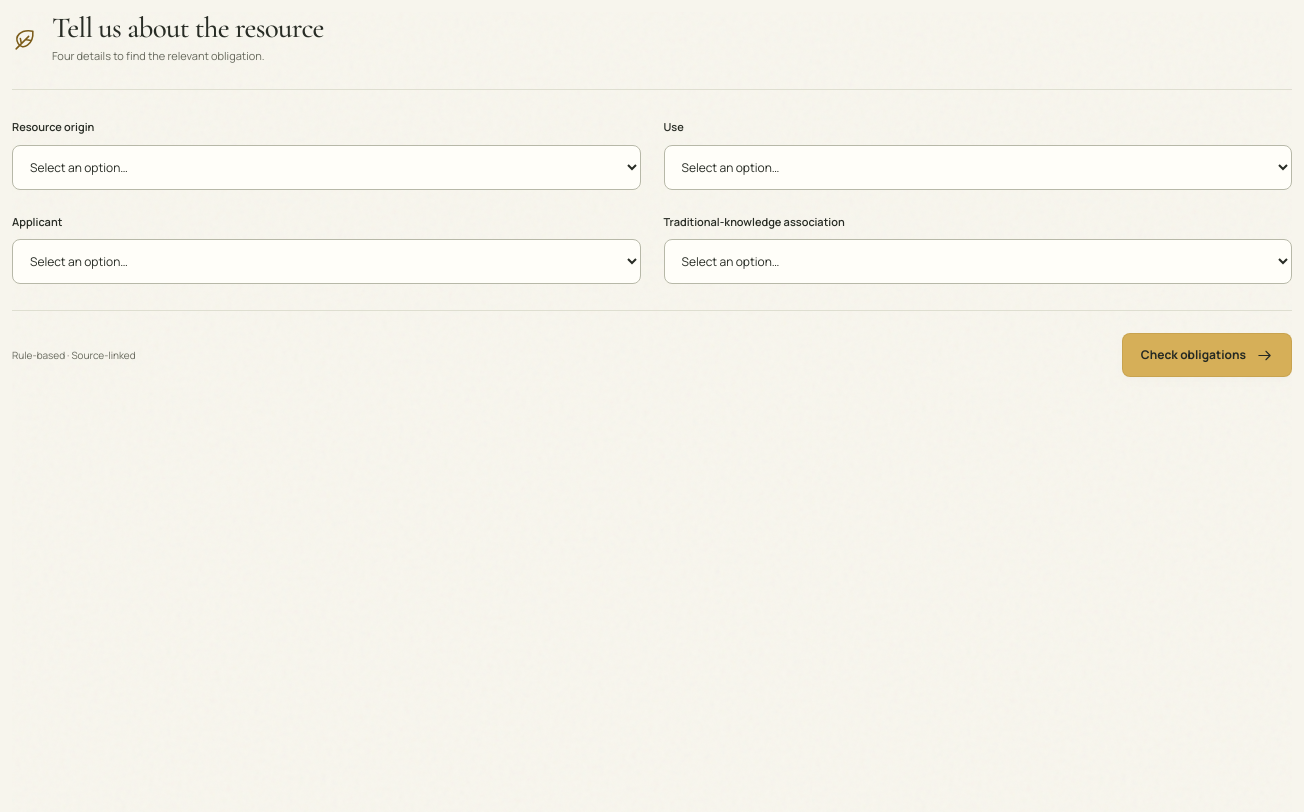
it: wizards › ABS wizard shows a sourced obligation
Click the button with test id "abs-run": [1207, 355] box [1122,333,1292,377]
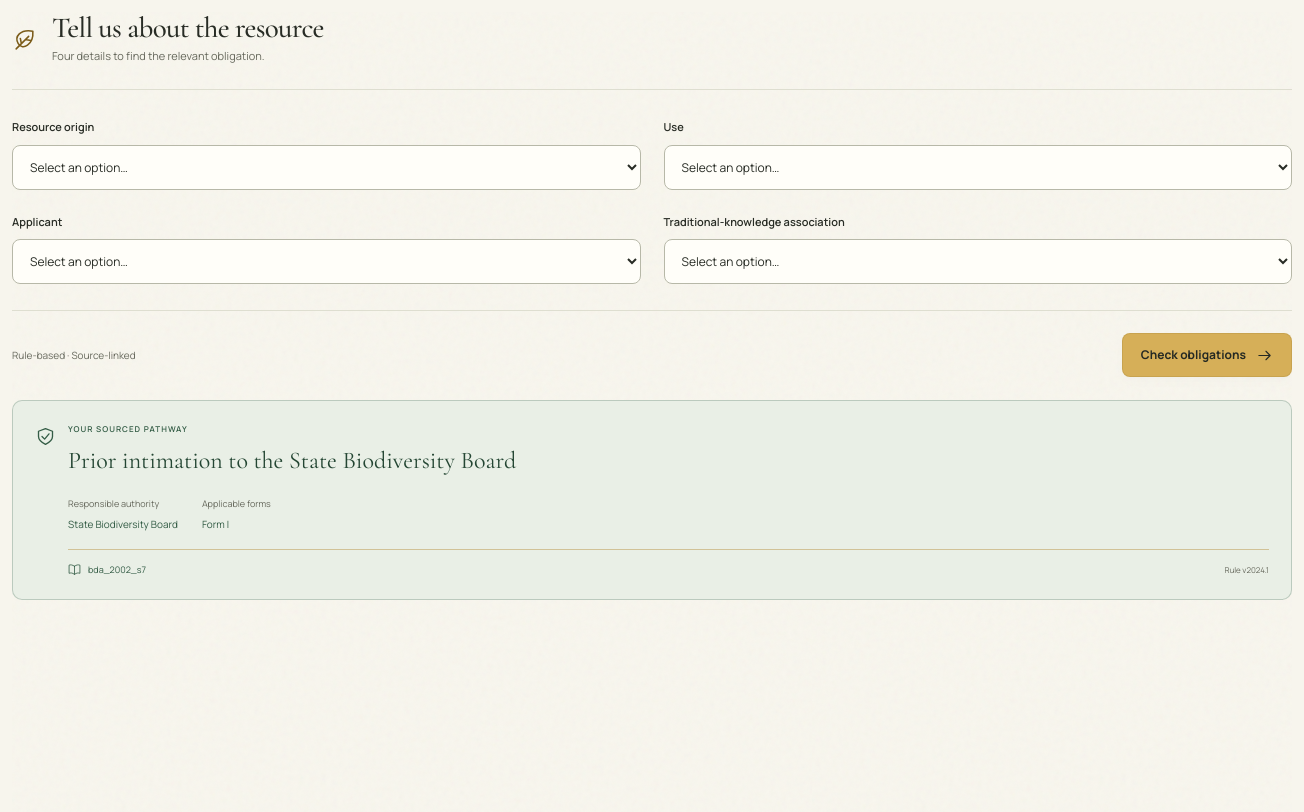
expect the message with test id "obligation" shows "State Biodiversity Board": met, box [68,517,178,531]
expect the message with test id "obligation" shows "bda_2002_s7": met, box [88,563,146,576]
